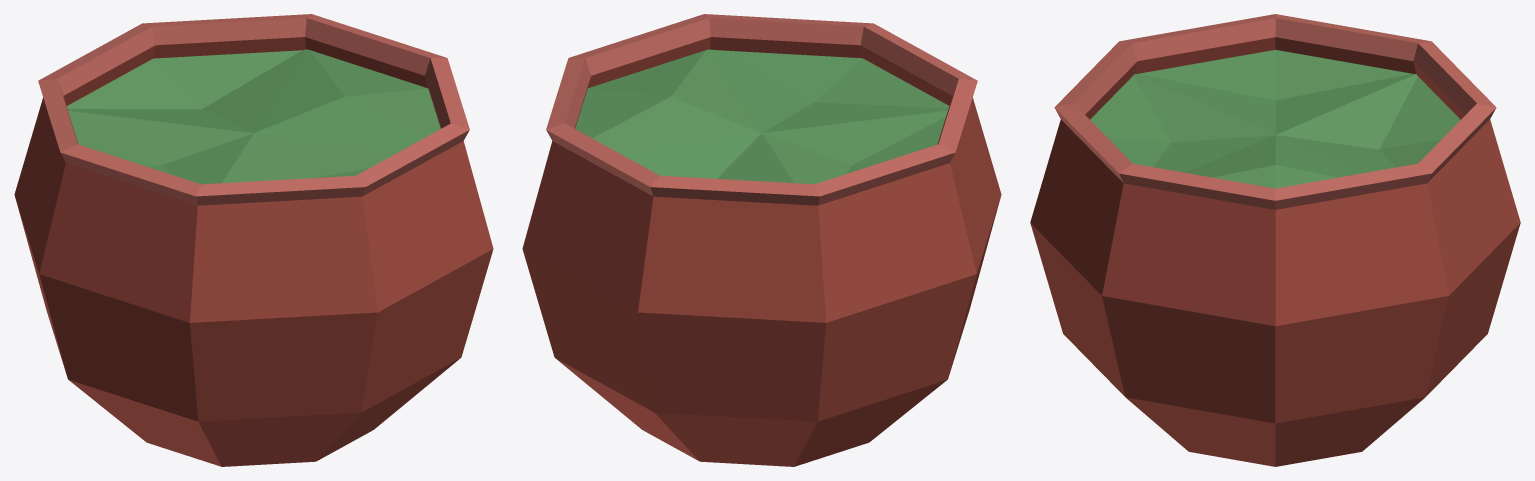
File: Cauldron_1_Red.fbx
3 renders of one model, left to right at view 1: azimuth 30°, elevation 25°; view 2: azimuth 150°, elevation 25°; view 3: azimuth 270°, elevation 25°, orthographic.
Visible parts, largest first — view 1: Cauldron_1_Red_Part_1, Cauldron_1_Red_Part_3, Cauldron_1_Red_Part_2; view 2: Cauldron_1_Red_Part_1, Cauldron_1_Red_Part_3, Cauldron_1_Red_Part_2; view 3: Cauldron_1_Red_Part_1, Cauldron_1_Red_Part_3, Cauldron_1_Red_Part_2.
Boxes of the visible parts, x1,y1,x2,y2 form: Cauldron_1_Red_Part_1: (14,37,493,466); Cauldron_1_Red_Part_3: (66,49,440,184); Cauldron_1_Red_Part_2: (38,14,469,205); Cauldron_1_Red_Part_1: (522,37,1001,466); Cauldron_1_Red_Part_3: (575,49,949,184); Cauldron_1_Red_Part_2: (546,14,977,205); Cauldron_1_Red_Part_1: (1030,37,1520,466); Cauldron_1_Red_Part_3: (1090,49,1460,188); Cauldron_1_Red_Part_2: (1054,14,1496,209).
Bounding box in the file's own units: 100 × 70.12 × 100.
